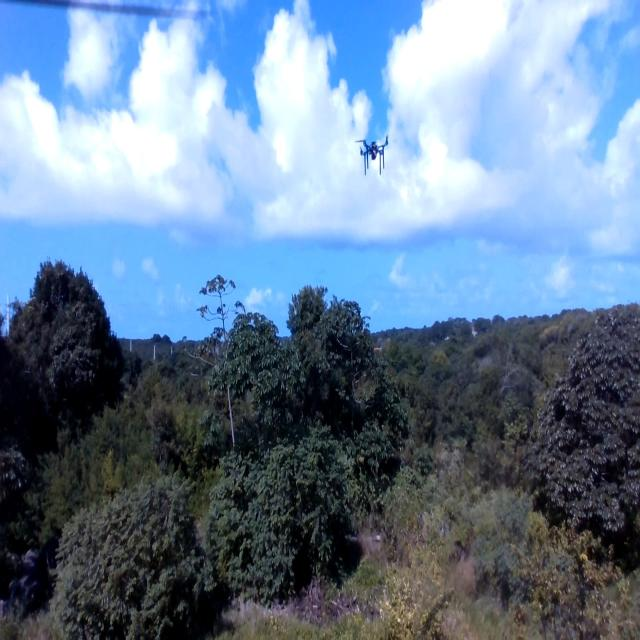-uav-: (350, 126, 401, 184)
